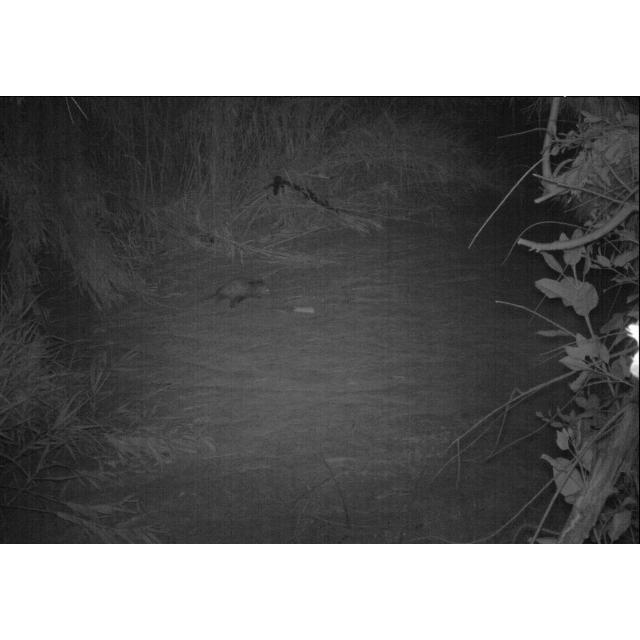animals: (196, 274, 278, 308)
